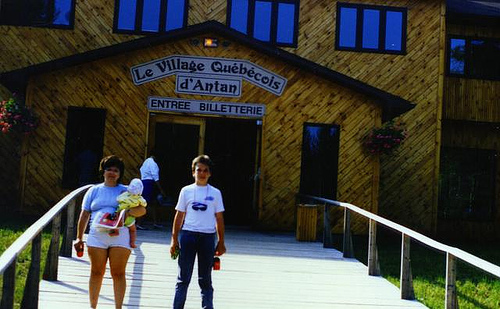without_mask: (191, 161, 212, 186), (103, 165, 121, 185)
